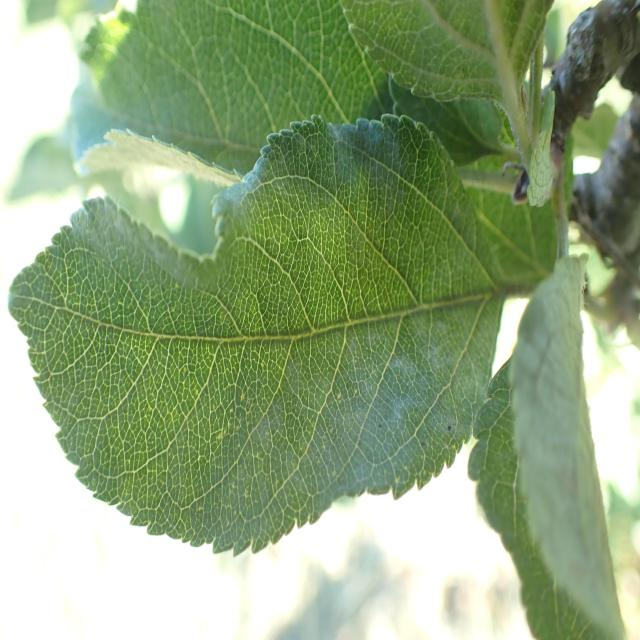Powdery_mildew: (28, 130, 512, 562)
